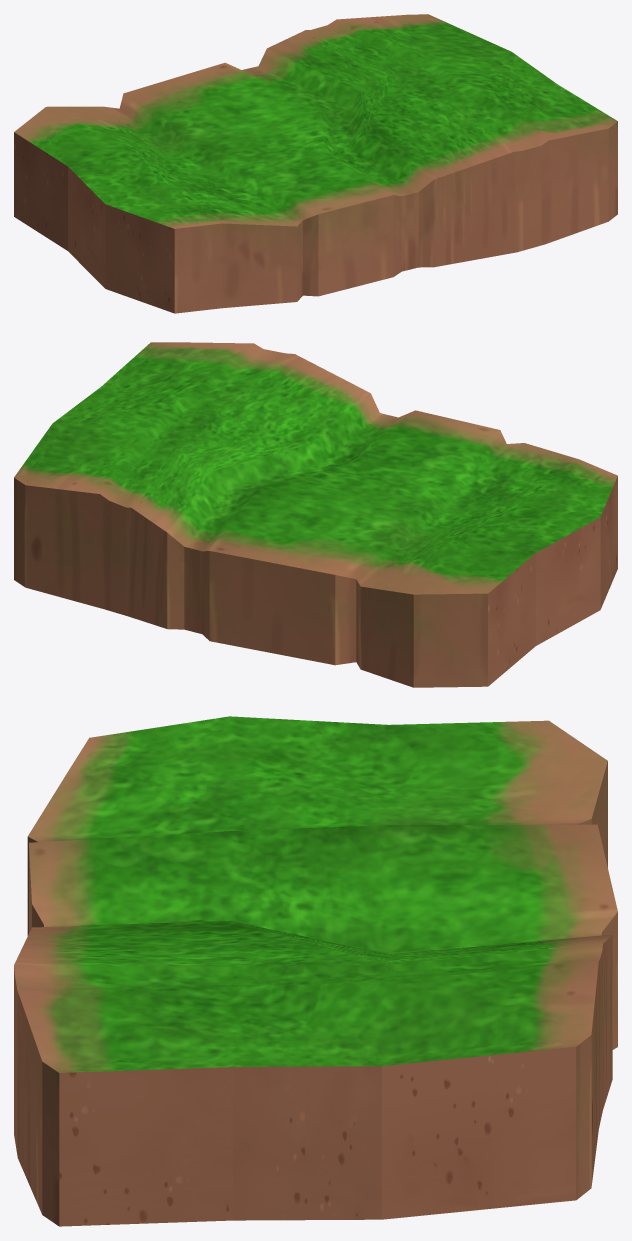
Rendered from ground_short05.fbx.
3 renders of one model, top to bottom at view 1: azimuth 30°, elevation 25°; view 2: azimuth 150°, elevation 25°; view 3: azimuth 270°, elevation 25°, orthographic. The views are drawn at different scales.
Visible parts, largest first — view 1: ground_short05; view 2: ground_short05; view 3: ground_short05.
Boxes of the visible parts, x1=… form: ground_short05: x1=14, y1=14, x2=617, y2=313; ground_short05: x1=14, y1=342, x2=617, y2=687; ground_short05: x1=14, y1=716, x2=617, y2=1226.
Bounding box in the file's own units: 2.87 × 1.97 × 0.6173.
